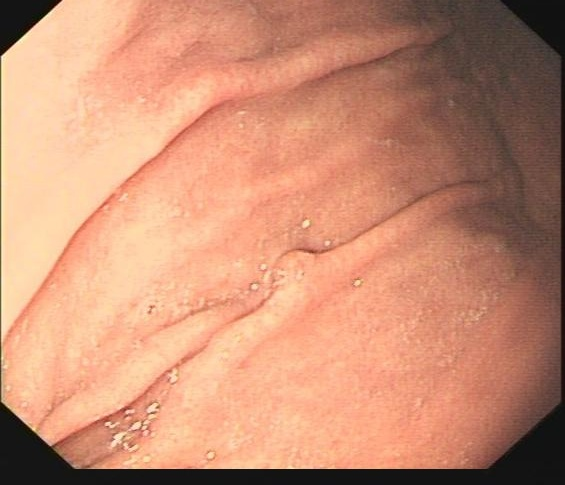Polyp: (254, 225, 339, 294)
